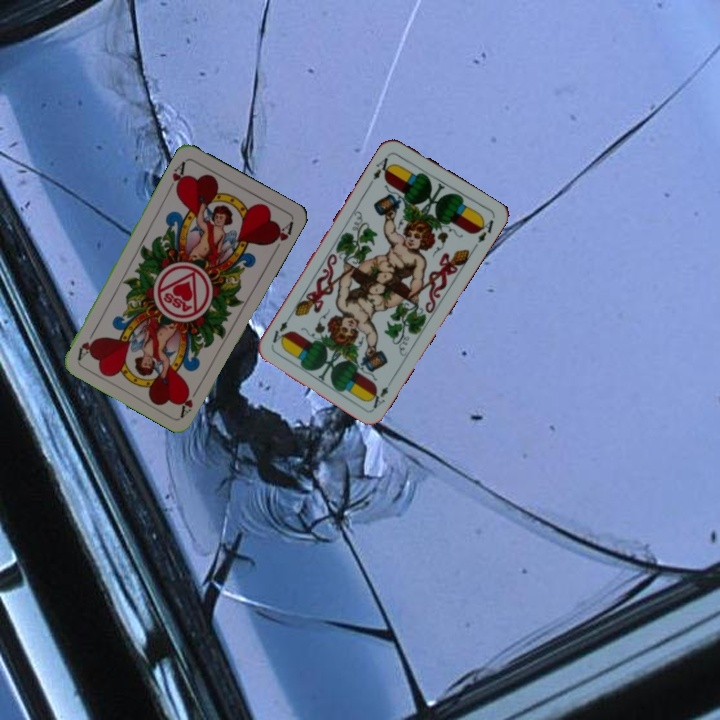EA: (366, 375, 395, 411), (369, 150, 395, 182)
HA: (176, 381, 202, 419), (164, 157, 188, 195)
